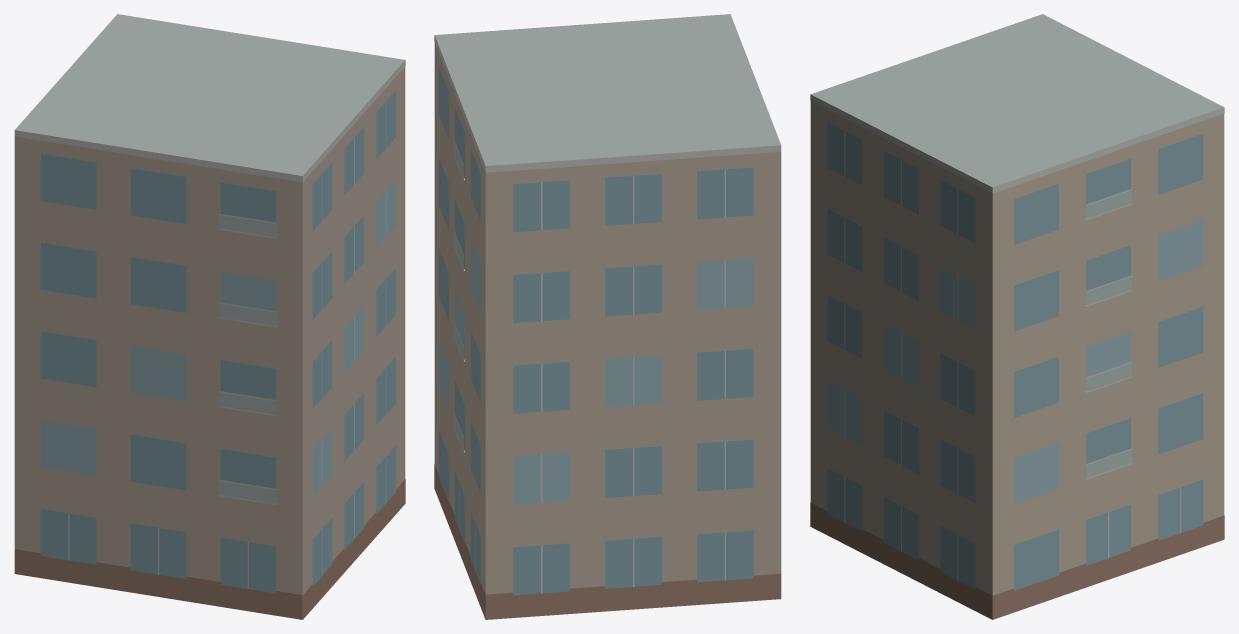
The model's file is survey-upis-32844022.glb.
3 renders of one model, left to right at view 1: azimuth 30°, elevation 25°; view 2: azimuth 150°, elevation 25°; view 3: azimuth 270°, elevation 25°, orthographic. The views are drawn at different scales.
Visible parts, largest first — view 1: survey-upis-32844022.tmp; view 2: survey-upis-32844022.tmp; view 3: survey-upis-32844022.tmp.
Part boxes in pixels (left/top/right/bottom): survey-upis-32844022.tmp: left=14, top=14, right=405, bottom=619; survey-upis-32844022.tmp: left=434, top=14, right=781, bottom=619; survey-upis-32844022.tmp: left=810, top=14, right=1224, bottom=619.
Bounding box in the file's own units: 14.64 × 17 × 14.75.
